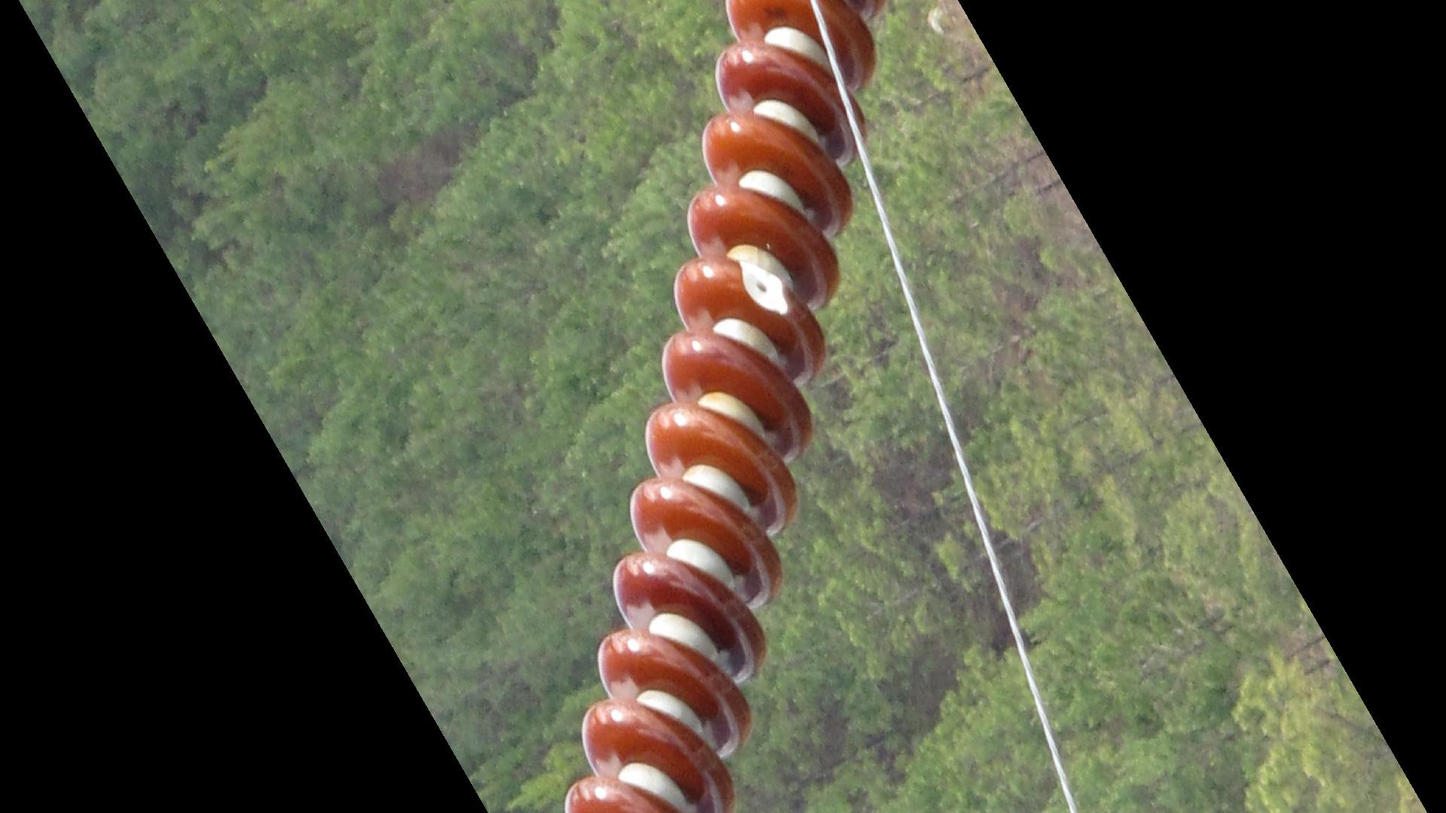insulator: (557, 1, 890, 813)
insulator_breakage: (728, 255, 796, 326)
